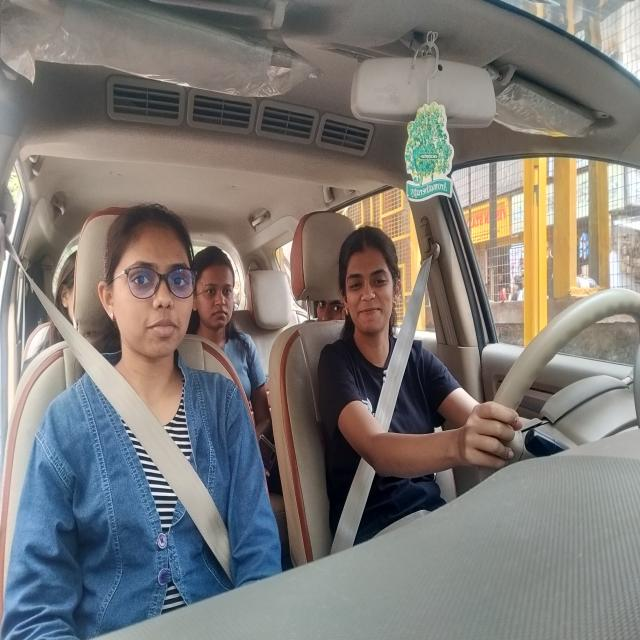person: (98, 207, 194, 362), (337, 224, 405, 340), (195, 240, 240, 338), (56, 250, 81, 331)
